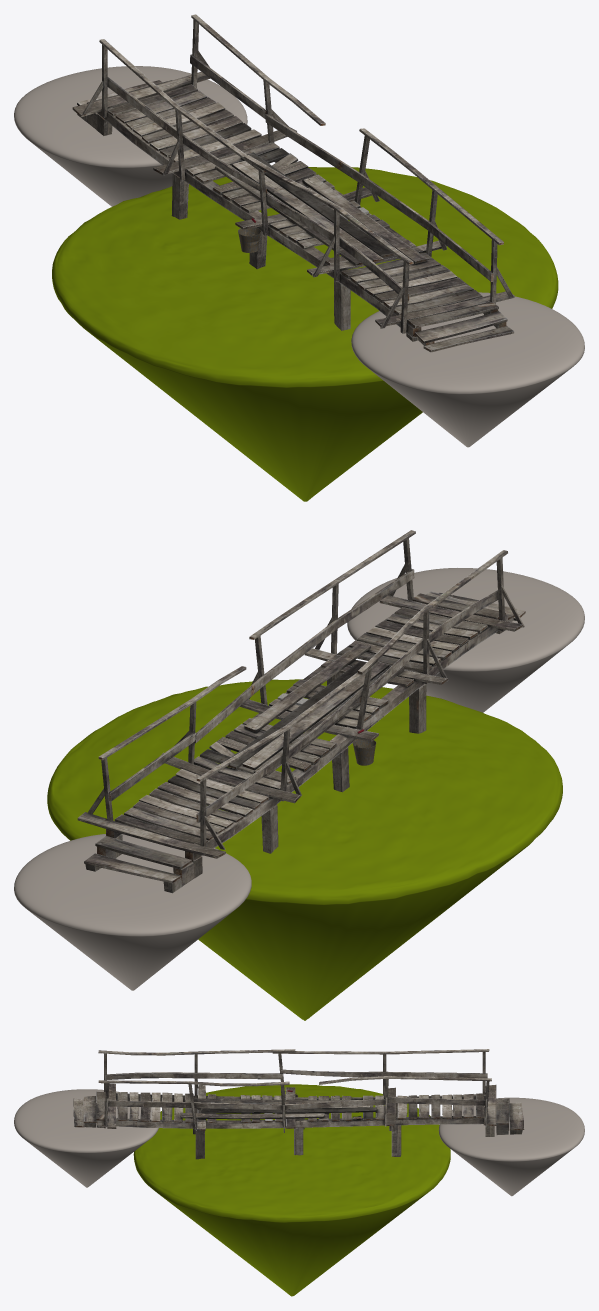
File: bridge.fbx
3 views of the same model, one above another, from view 1: azimuth 30°, elevation 25°; view 2: azimuth 150°, elevation 25°; view 3: azimuth 270°, elevation 25° (orthographic). The views are drawn at different scales.
Parts seen in each view (by area): view 1: Water, Bridge, Earth; view 2: Water, Bridge, Earth; view 3: Water, Bridge, Earth.
Boxes of the visible parts, box(x1,y1,x2,y2) form: Water: box(52, 167, 558, 501); Bridge: box(72, 14, 514, 352); Earth: box(14, 66, 584, 447); Water: box(47, 679, 562, 1020); Bridge: box(77, 530, 525, 893); Earth: box(14, 568, 584, 990); Water: box(133, 1084, 450, 1296); Bridge: box(73, 1049, 524, 1159); Earth: box(14, 1089, 584, 1196).
Bounding box in the file's own units: 604 × 486 × 1089.
